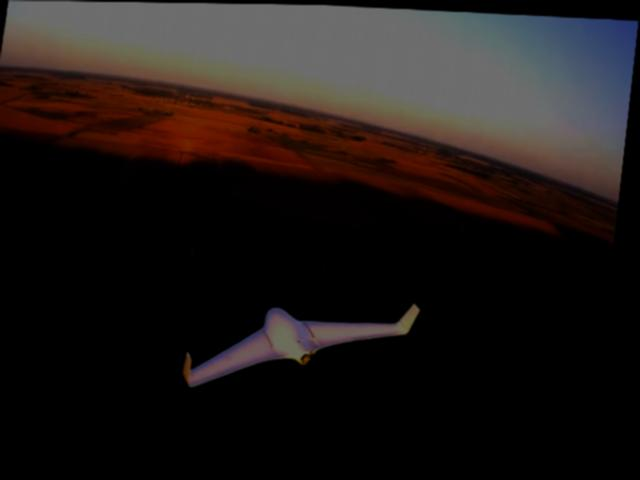plane: (188, 290, 429, 398)
